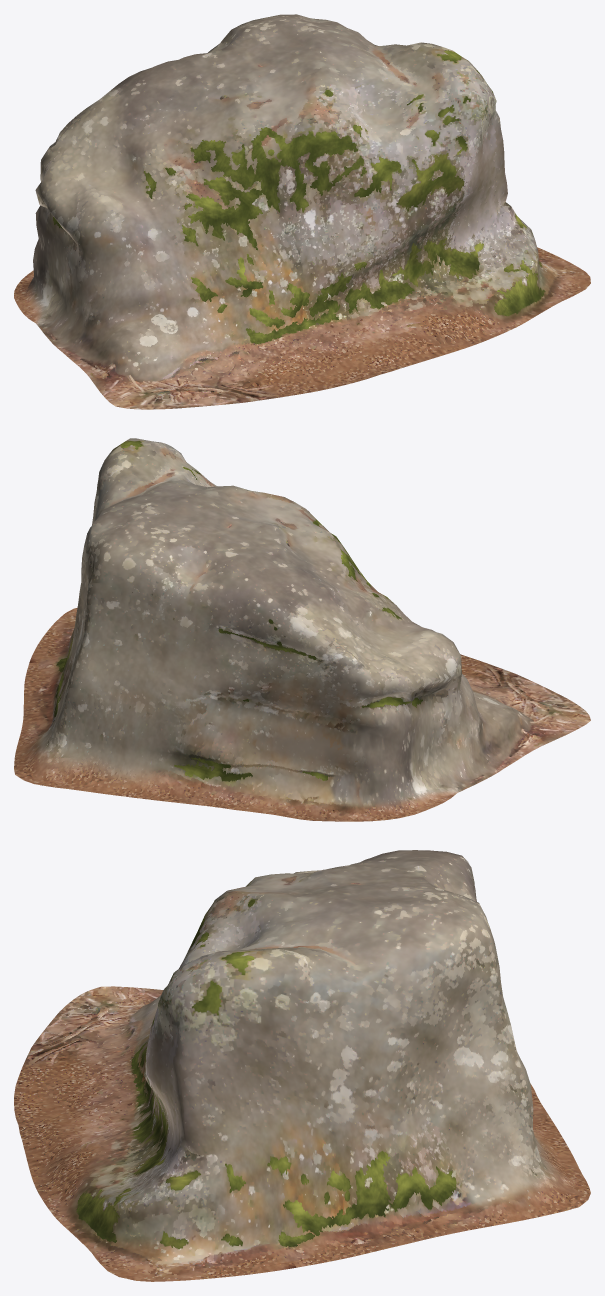
The model's file is Rock_13.FBX.
3 renders of one model, top to bottom at view 1: azimuth 30°, elevation 25°; view 2: azimuth 150°, elevation 25°; view 3: azimuth 270°, elevation 25°, orthographic. The views are drawn at different scales.
Visible parts, largest first — view 1: Rock13_LOD0; view 2: Rock13_LOD0; view 3: Rock13_LOD0.
Boxes of the visible parts, box(x1,y1,x2,y2) form: Rock13_LOD0: box(14, 14, 590, 409); Rock13_LOD0: box(14, 438, 590, 821); Rock13_LOD0: box(14, 850, 590, 1281).
Size of what is drawn, in the model's own units: 8.68 by 7.16 by 3.65.
1 material, 1 textured.
